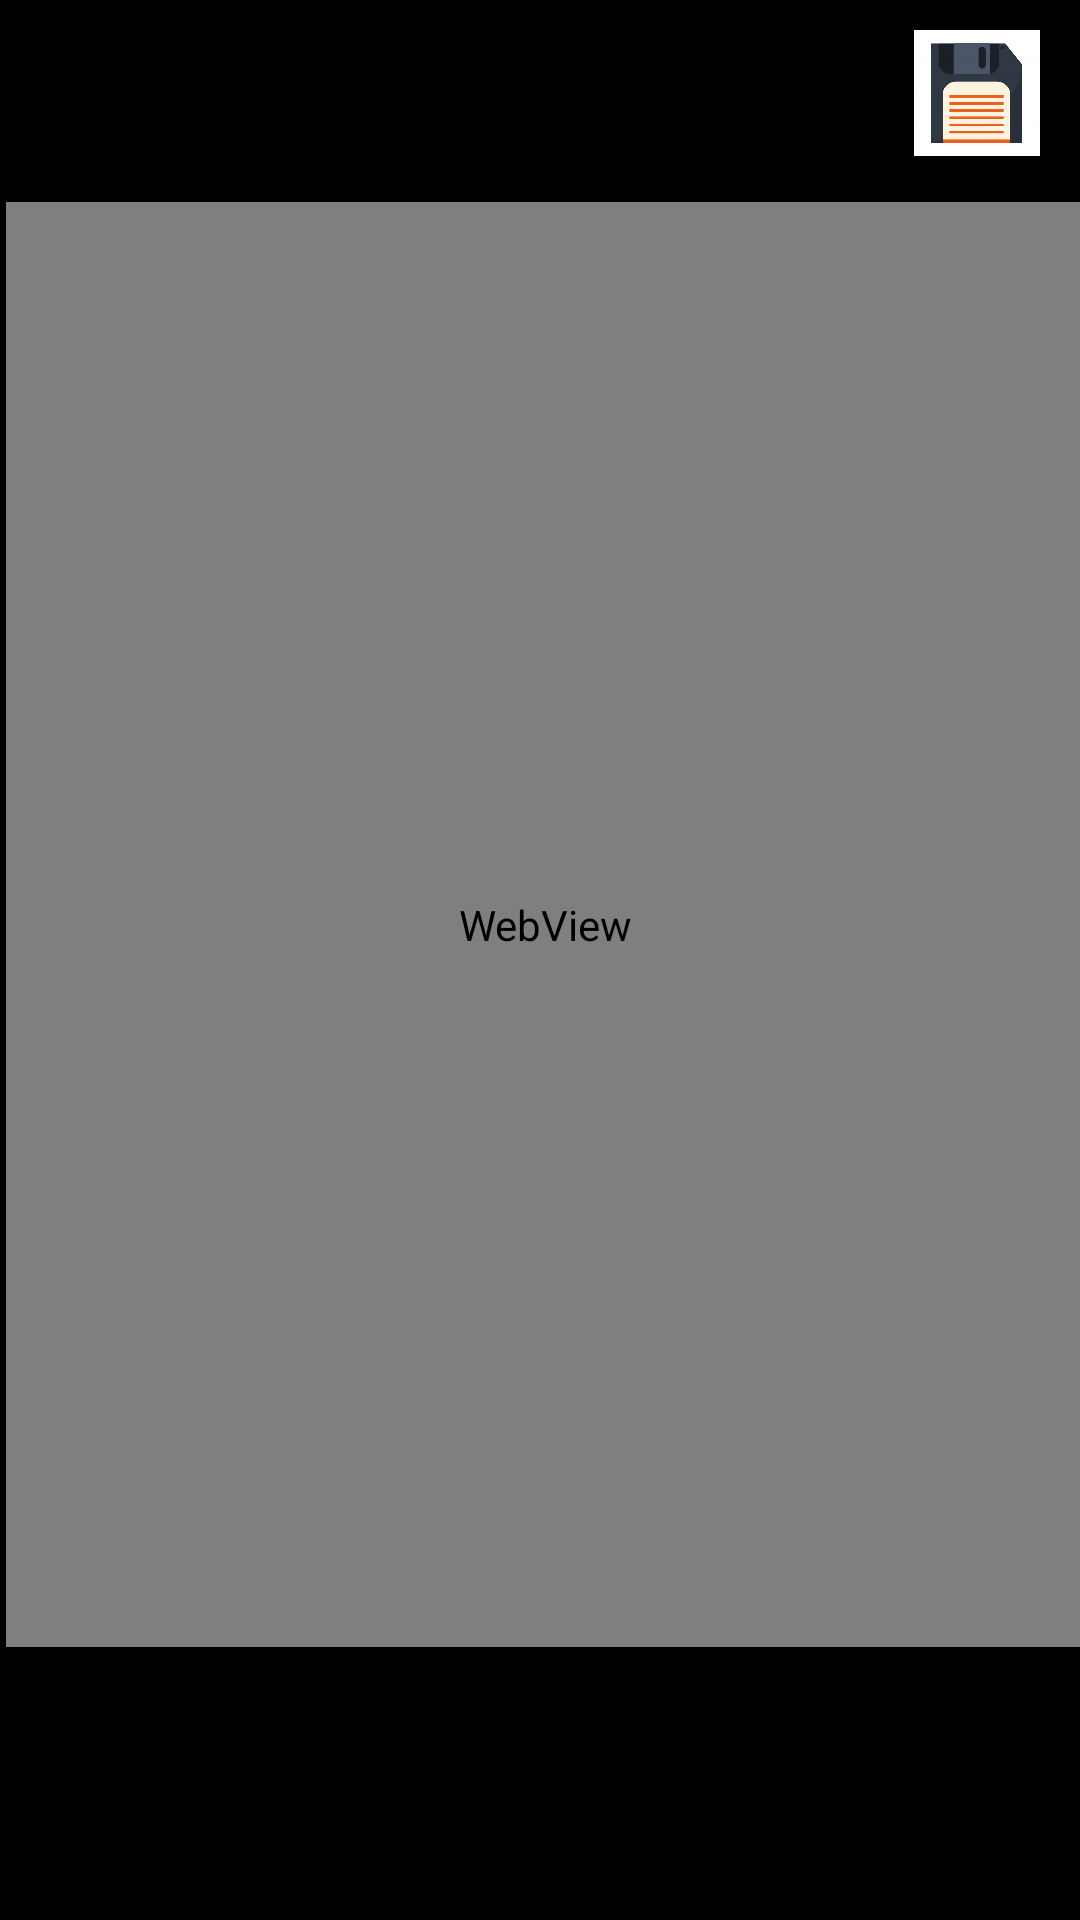

Icon click points for this 1080*1920 phone screenshot, format point (x, y):
salvar: point (977, 93)
